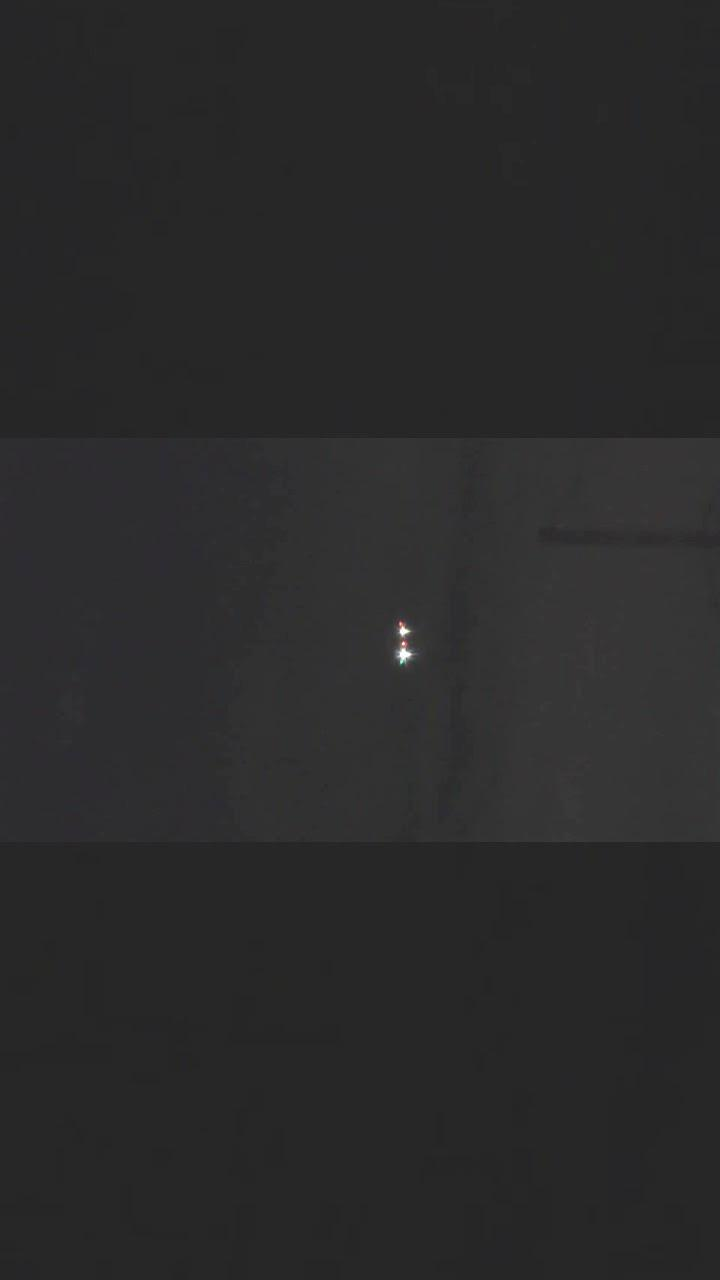Plane: (371, 584, 435, 694)
